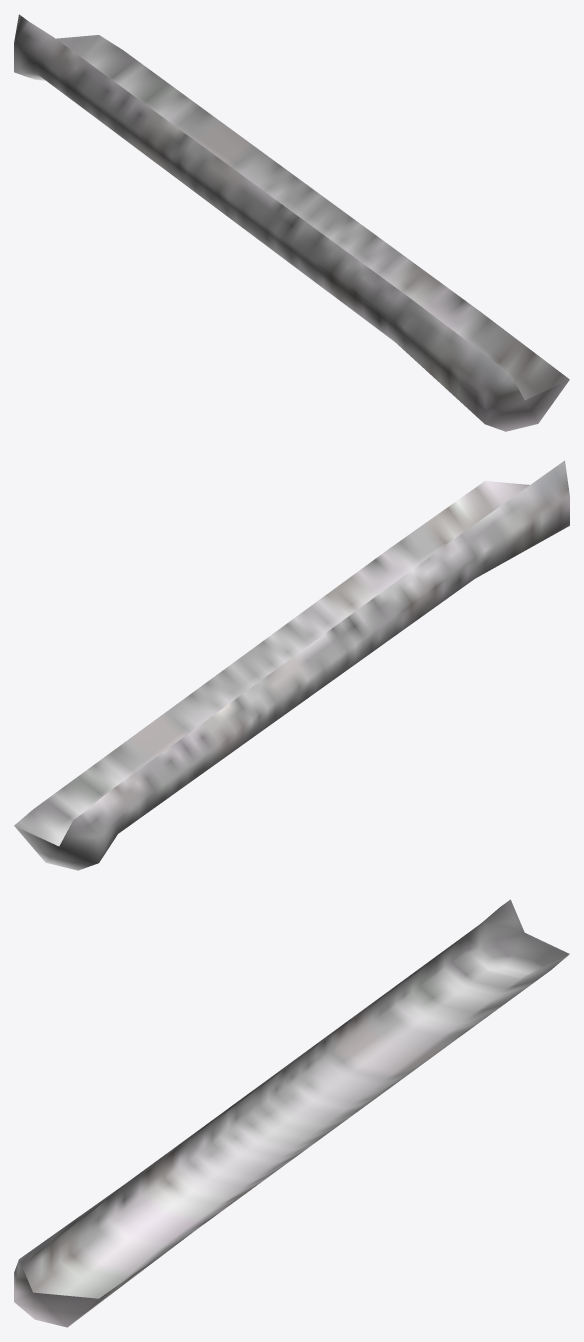
The picture shows the model from 3 angles, top to bottom: view 1: azimuth 30°, elevation 25°; view 2: azimuth 150°, elevation 25°; view 3: azimuth 330°, elevation 25°; orthographic projection.
Visible parts, largest first — view 1: wg_l_c_f; view 2: wg_l_c_f; view 3: wg_l_c_f.
Part boxes in pixels (x1,y1,x2,y2): wg_l_c_f: [14, 14, 569, 431]; wg_l_c_f: [14, 460, 569, 870]; wg_l_c_f: [14, 899, 569, 1327].
Size of the model in its own units: 0.2092 by 0.1523 by 2.04.
Materials: 1 (1 with a texture image).
